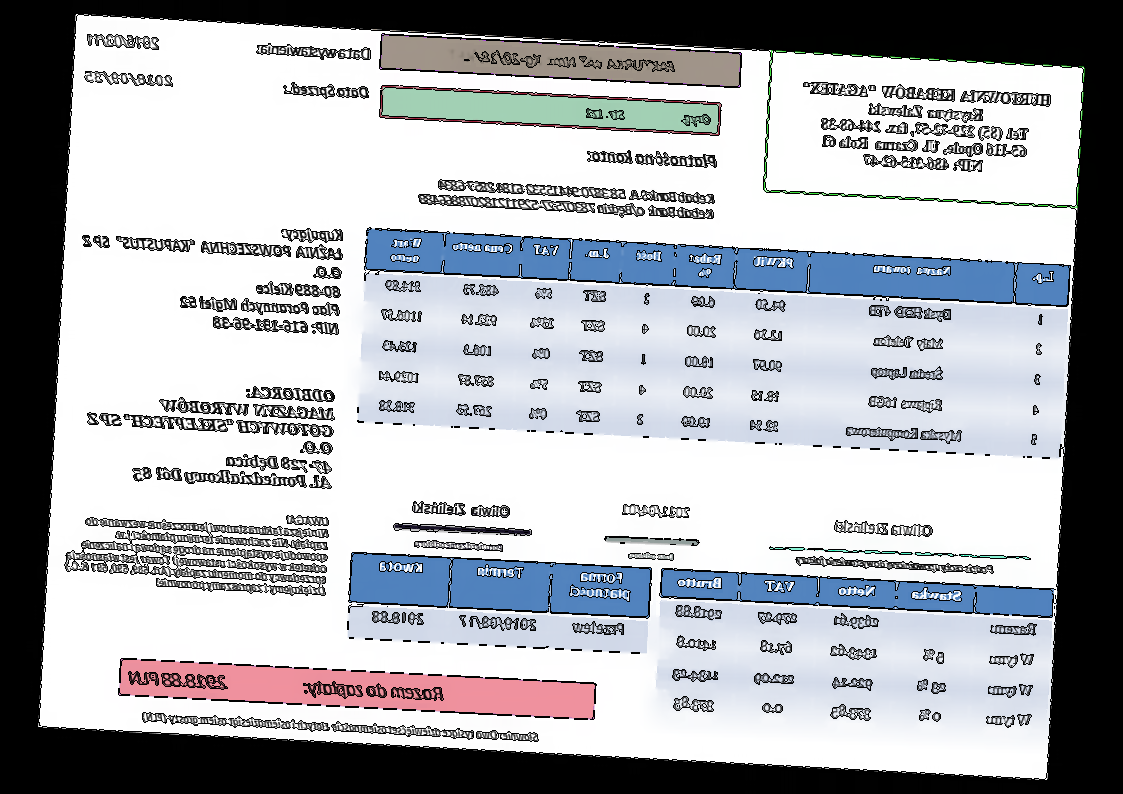Table: (355, 227, 1073, 460), (653, 568, 1056, 741), (346, 550, 653, 656)
TextBox: (76, 213, 347, 339), (82, 375, 339, 494), (796, 73, 1056, 182), (61, 499, 331, 598), (139, 706, 542, 747), (416, 174, 718, 222), (127, 665, 447, 705), (445, 46, 681, 76), (793, 552, 997, 578), (585, 146, 721, 172), (254, 38, 373, 66), (582, 103, 715, 128), (831, 516, 937, 540), (411, 498, 514, 520), (83, 67, 177, 91), (281, 79, 371, 102), (412, 536, 507, 554), (85, 30, 162, 52), (620, 501, 692, 522), (627, 549, 677, 562)
